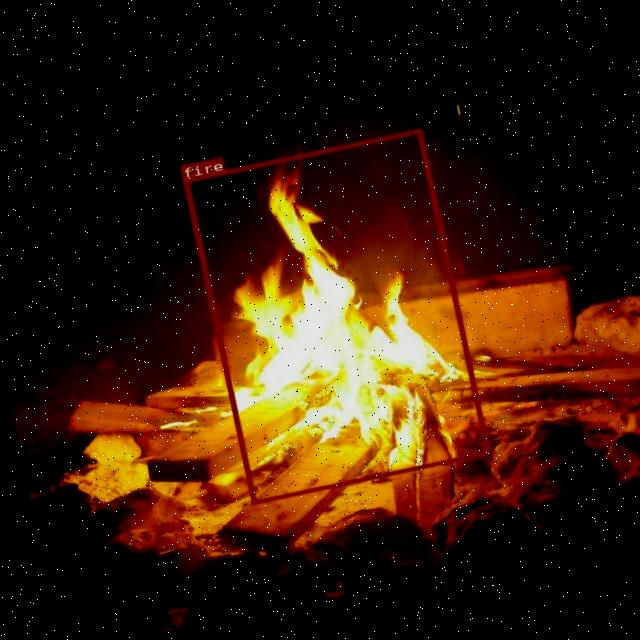fire: (182, 128, 490, 504)
